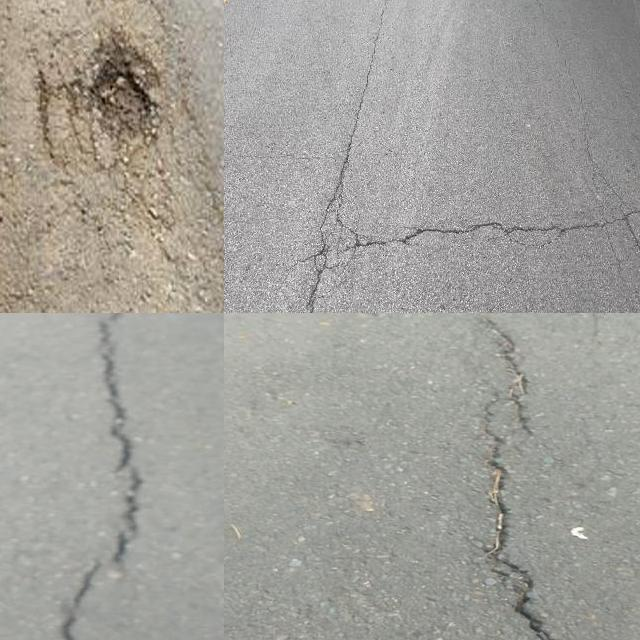Lubang: (19, 52, 184, 157)
Melintang: (312, 206, 640, 267)
Memanjang: (458, 313, 586, 640), (293, 0, 404, 313), (53, 313, 156, 640)
